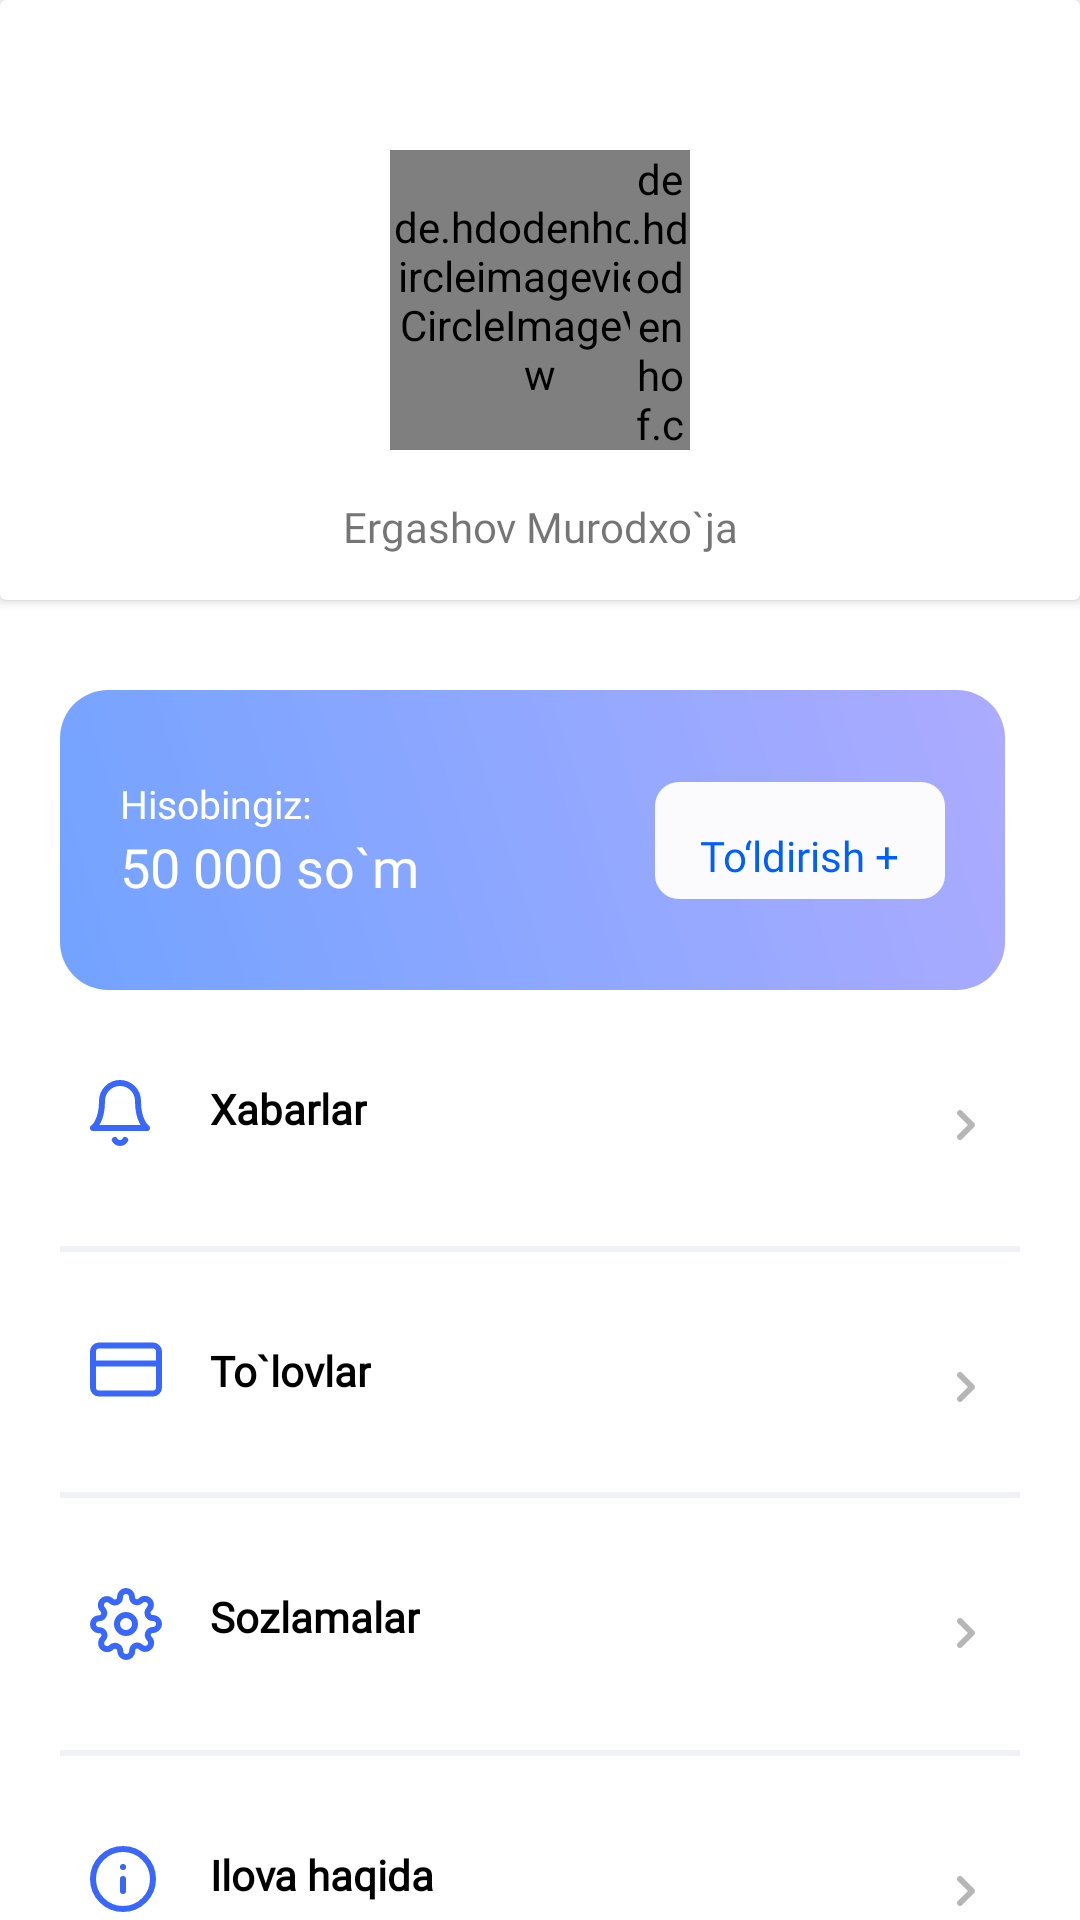

Screen size 1080 × 1920. Icon name, then its center in pixels as (x=x, y=y):
info: (x=123, y=1879)
settings: (x=126, y=1624)
strelka: (x=966, y=1125), (x=966, y=1387), (x=966, y=1633), (x=966, y=1891)
zvanok: (x=120, y=1113)
